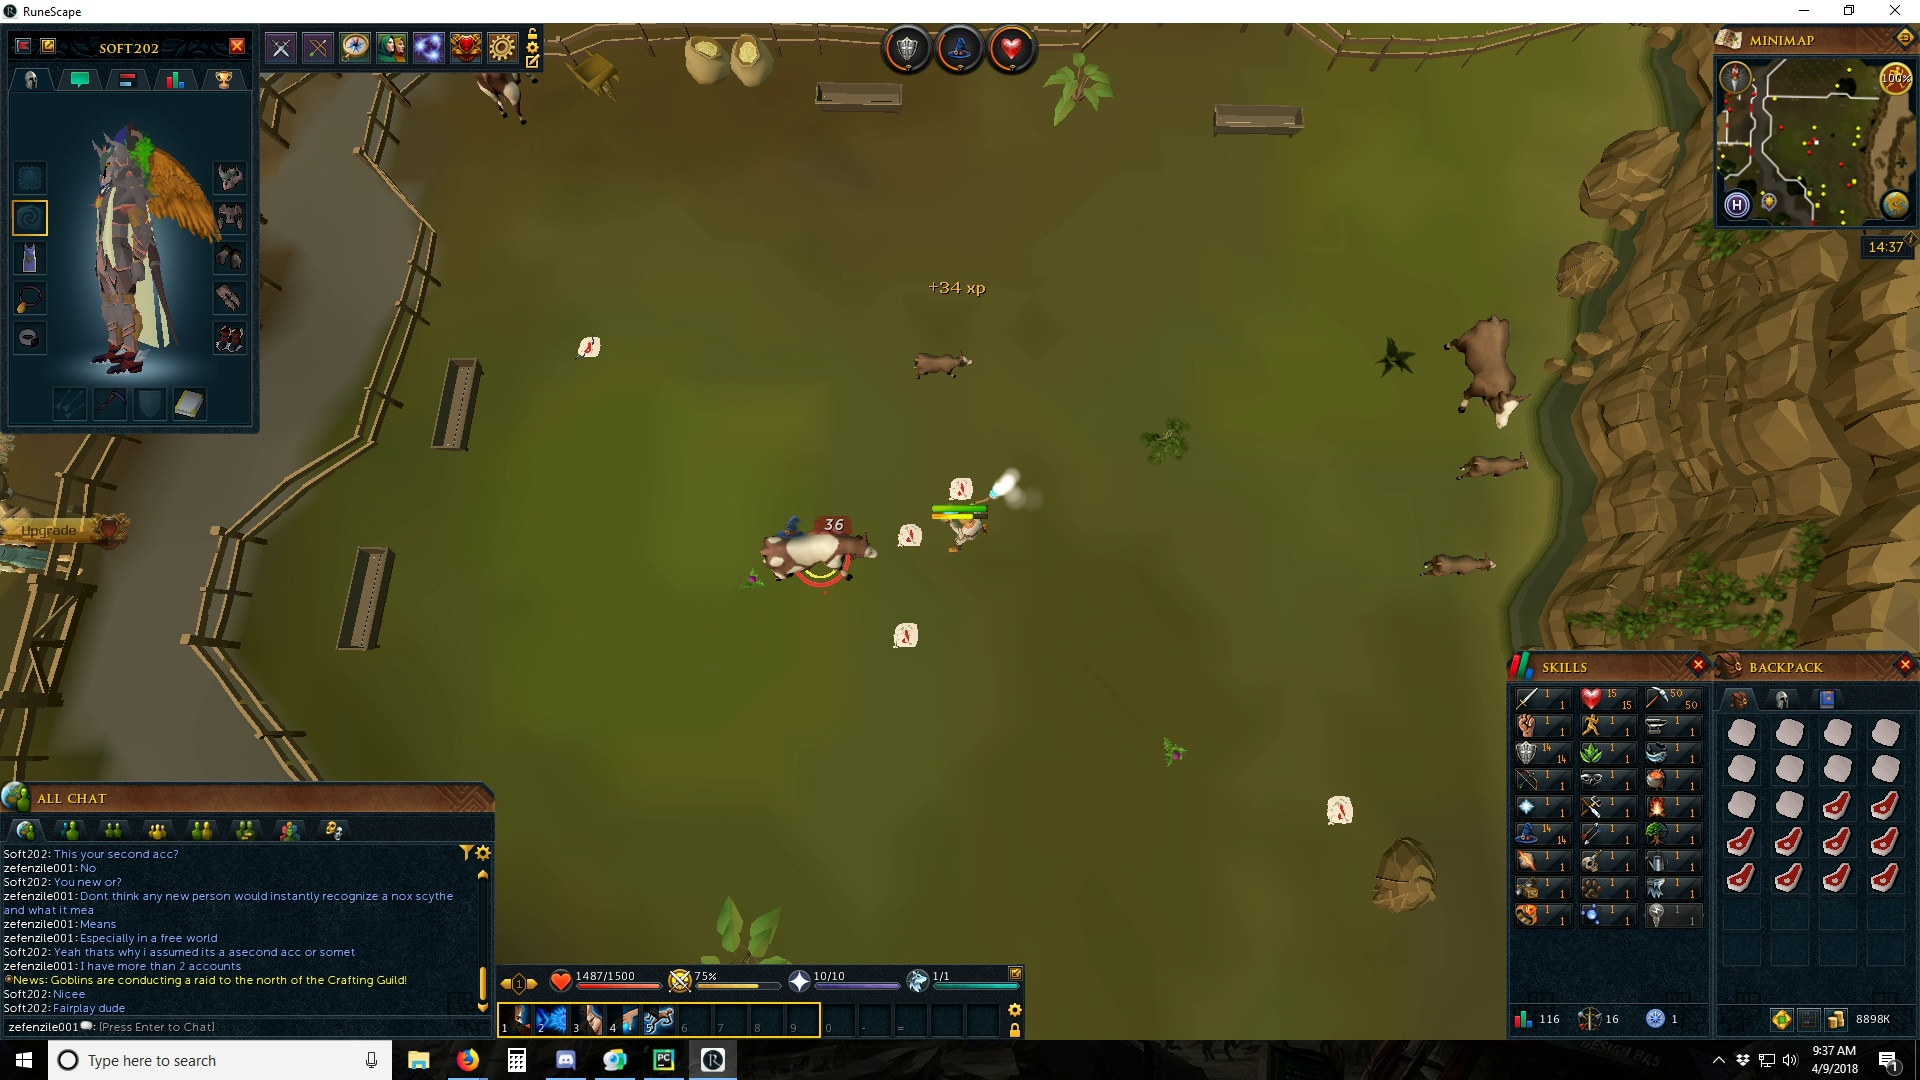calf: (1451, 450, 1534, 487), (1418, 549, 1503, 582), (905, 349, 977, 380)
cow: (1440, 316, 1528, 429), (761, 529, 880, 585)
cow_drop: (1323, 793, 1353, 828), (890, 521, 926, 550), (571, 334, 603, 364), (943, 475, 977, 502), (889, 621, 920, 649)
